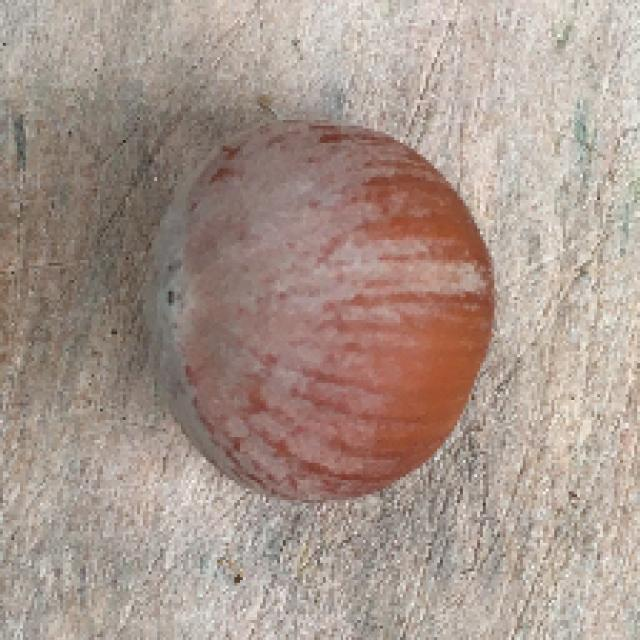qualityHazelnut: (140, 113, 500, 512)
